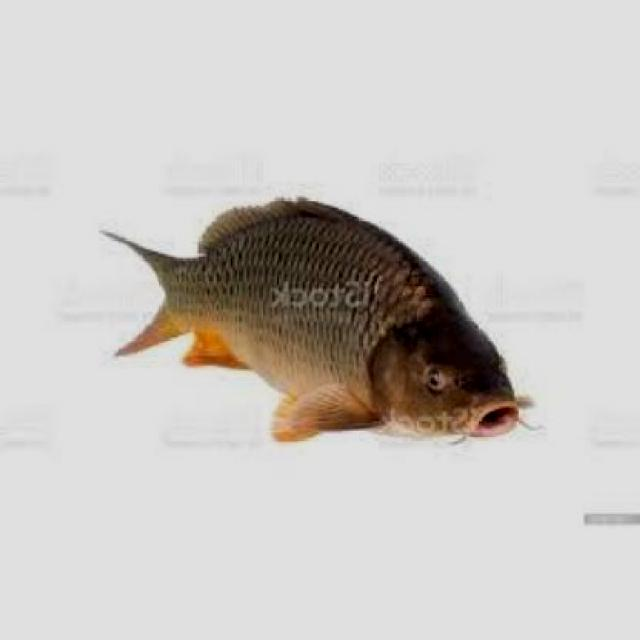ikan-mas: (128, 189, 540, 445)
